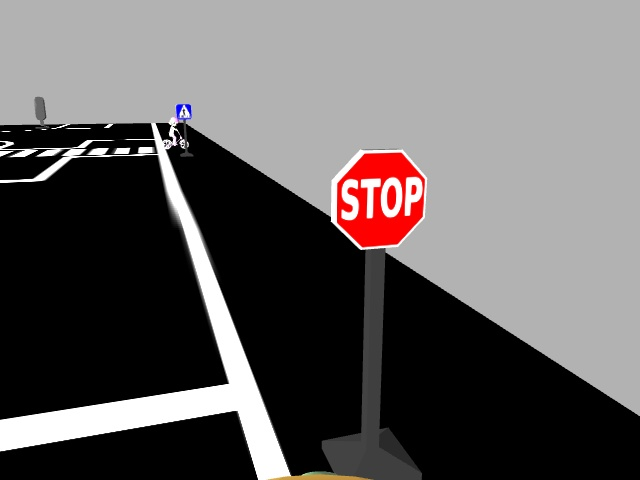Stop: (326, 143, 429, 252)
